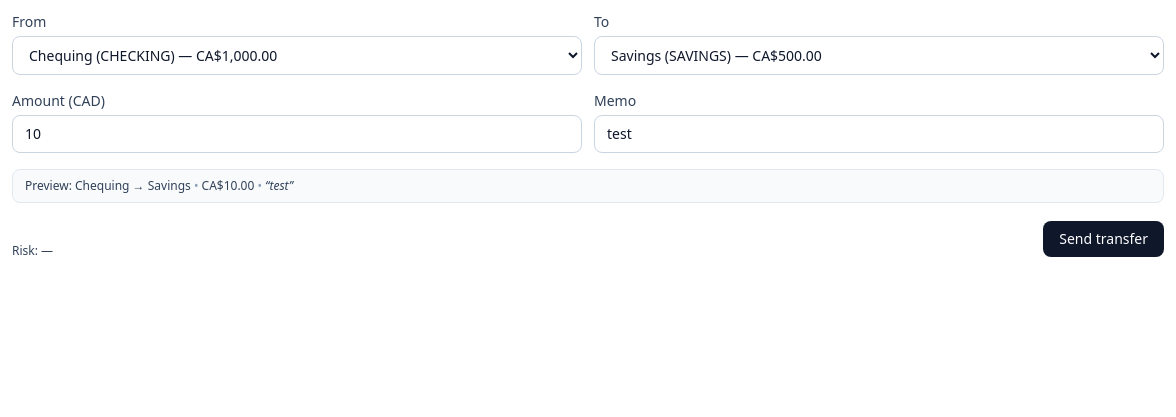
shows risk info after successful transfer
Click the button "Send transfer" at (1104, 239), box [1043,221,1164,257]
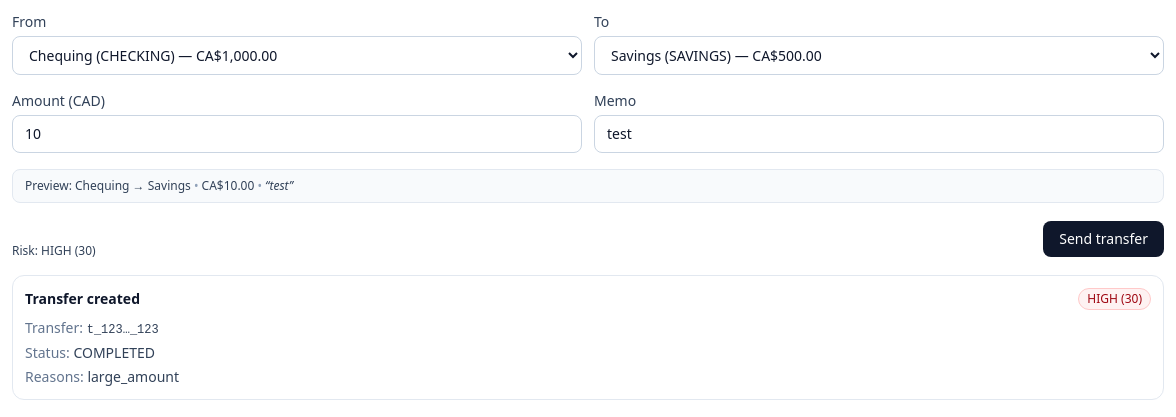
Expected: the text "Transfer created" is shown, [25,289,140,309]
Expected: the text "Reasons: large_amount" is shown, [25,367,179,386]
